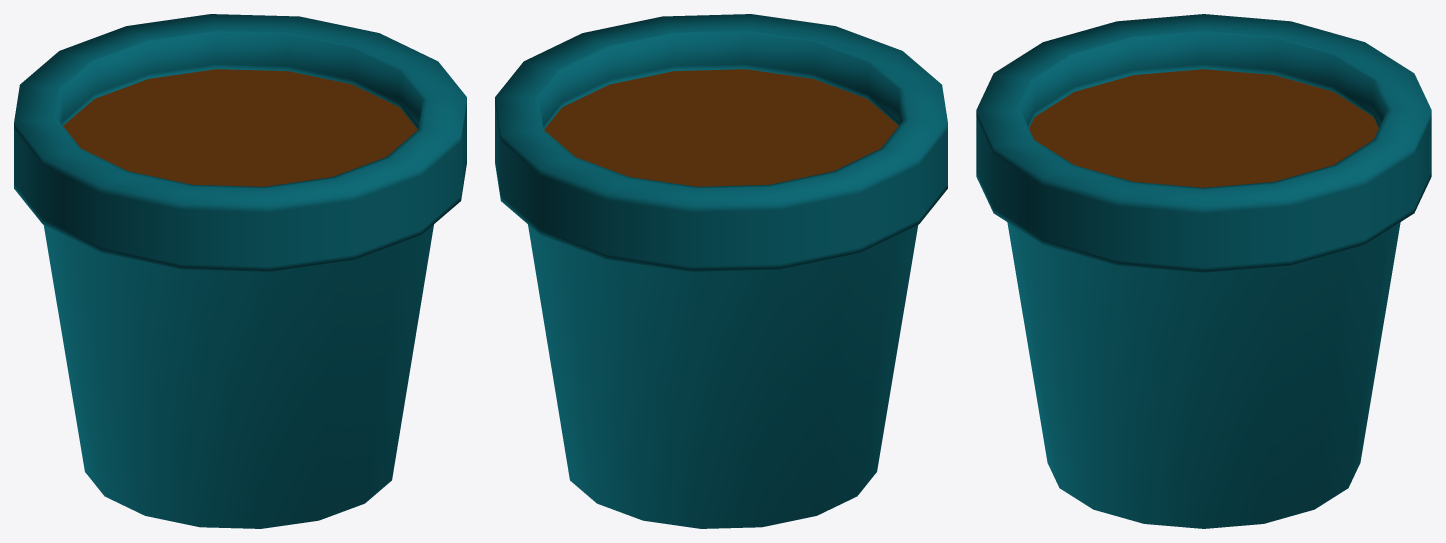
Rendered from pot.fbx.
The picture shows the model from 3 angles, left to right: view 1: azimuth 30°, elevation 25°; view 2: azimuth 150°, elevation 25°; view 3: azimuth 270°, elevation 25°; orthographic projection.
Parts seen in each view (by area): view 1: Pot; view 2: Pot; view 3: Pot.
Boxes of the visible parts, <box> form: Pot: <box>14,14,466,528</box>; Pot: <box>495,14,947,528</box>; Pot: <box>976,14,1431,528</box>.
Bounding box in the file's own units: 223 × 190 × 223.
